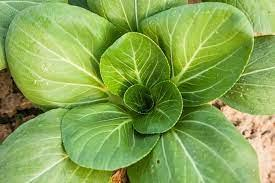Healthy-Pechay: (2, 1, 267, 183)
